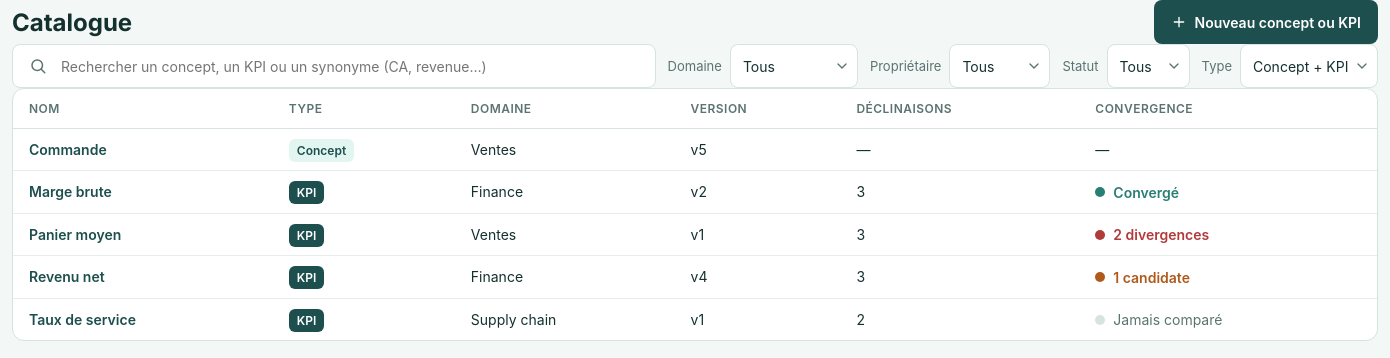
Test: catalogue › recherche temporisée sur les synonymes, gardée dans l'adresse (critère 2)
expect the link "Revenu net" is shown: met, box [29,268,105,285]
In the search field named "Rechercher dans le catalogue": (349,66) [59,56,639,76], type "CA net"
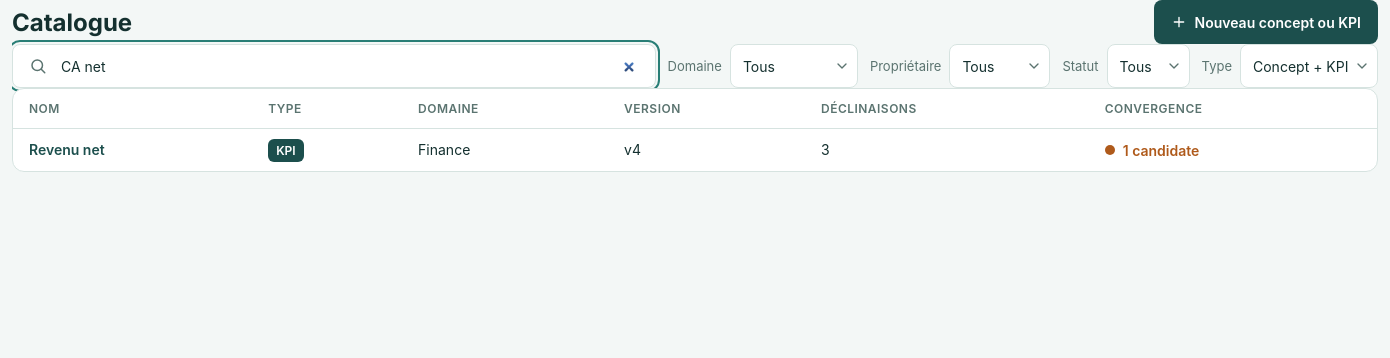
expect the link "Revenu net" is shown: met, box [29,141,105,158]
expect the number of rows is 2: met, box [13,89,1377,128]; [13,128,1377,170]
